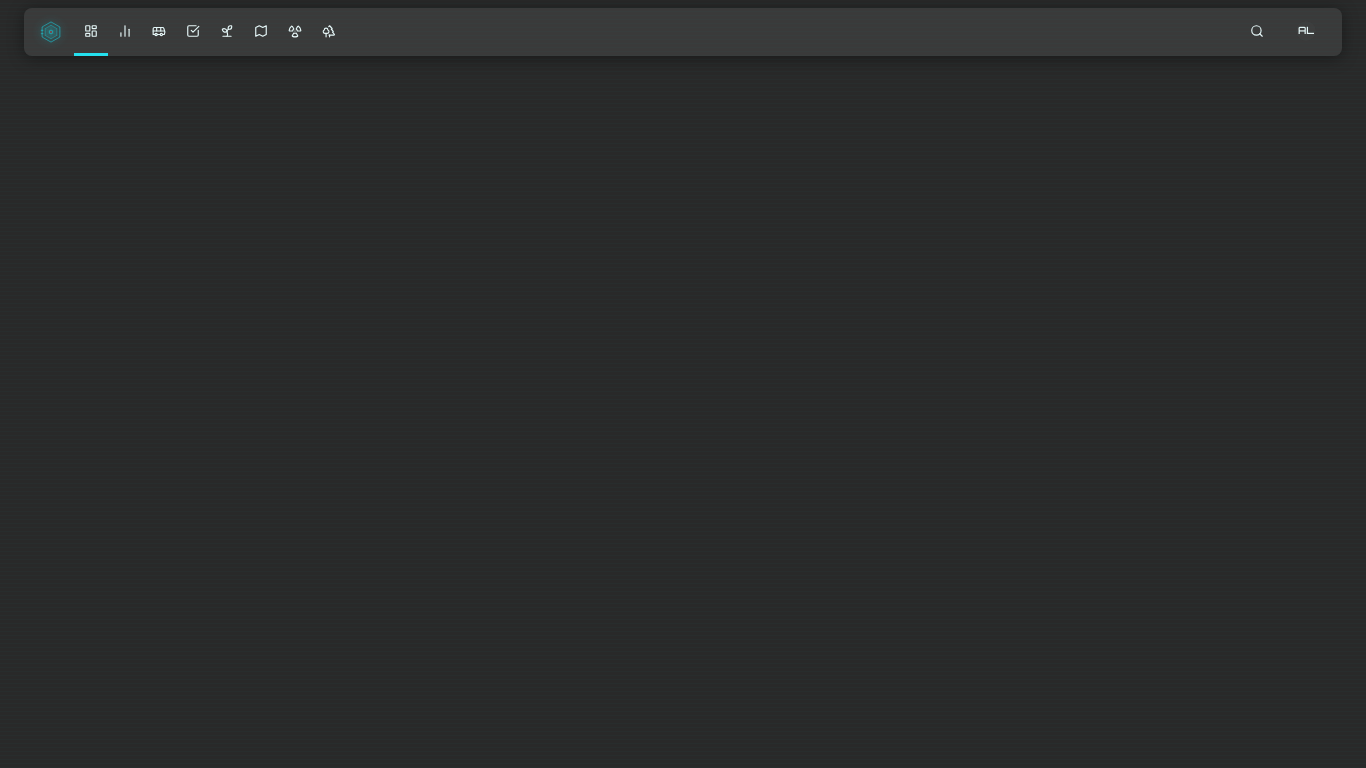
Test: Navbar – username editing › shows a pencil button next to the username in the user menu
Click the button with aria-label "user menu" at (1306, 32), box [1286,8,1326,56]
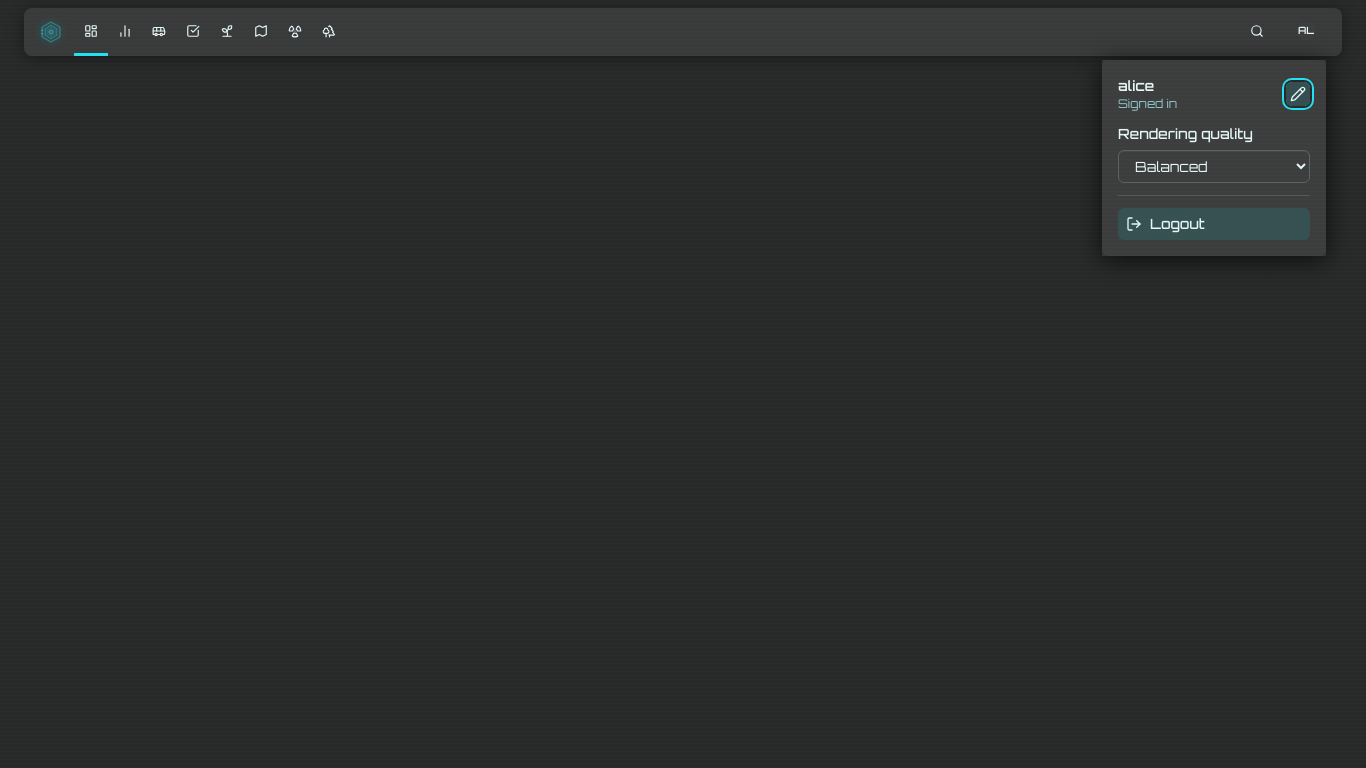
Now the button named "edit username" is shown, box [1286,82,1310,106]
